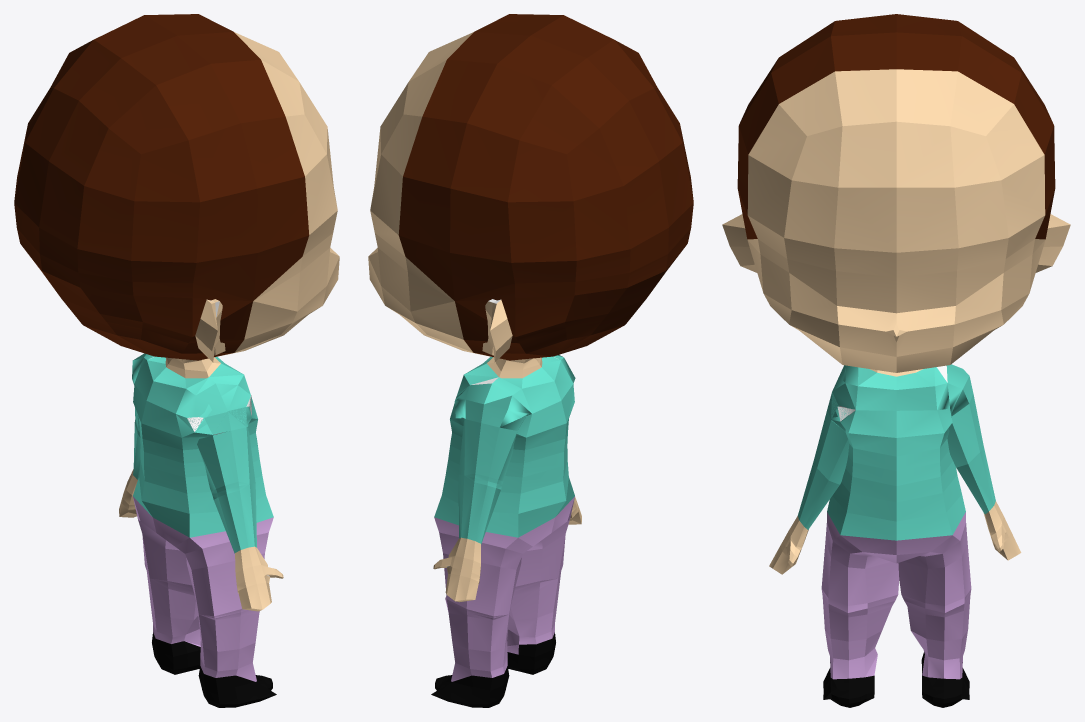
File: people_paint_0.glb
The picture shows the model from 3 angles, left to right: view 1: azimuth 30°, elevation 25°; view 2: azimuth 150°, elevation 25°; view 3: azimuth 270°, elevation 25°; orthographic projection.
Visible parts, largest first — view 1: head2; view 2: head2; view 3: head2.
Boxes of the visible parts, box(x1,y1,x2,y2) form: head2: box(14, 14, 339, 707); head2: box(368, 14, 693, 707); head2: box(722, 14, 1070, 707).
Bounding box in the file's own units: 5.95 × 12.96 × 6.35.
6 materials, 1 textured.
